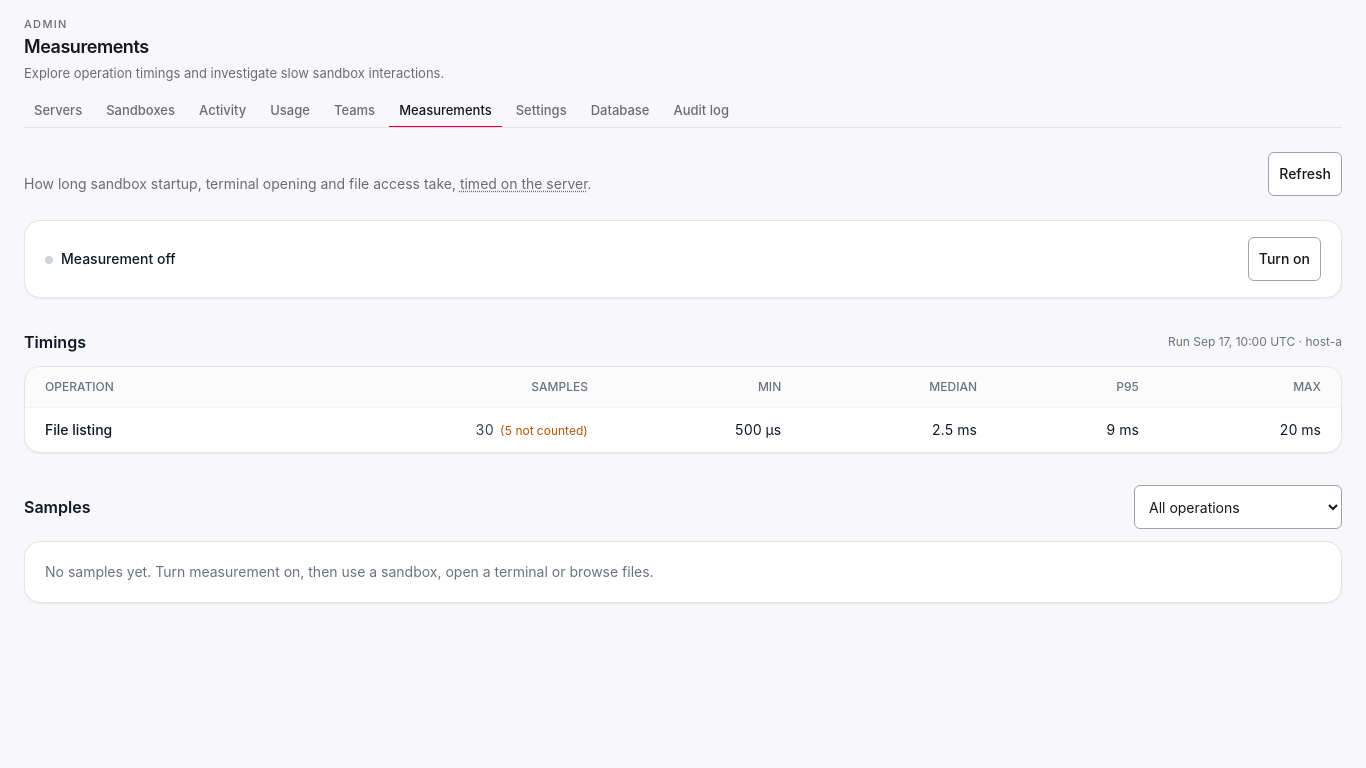
Test case: admin measurements page › says there are no samples rather than showing a zero
This screenshot has width=1366, height=768.
Select "File opening" in the dropdown named "Operation" at (1238,507), box 1134,485 -> 1342,529
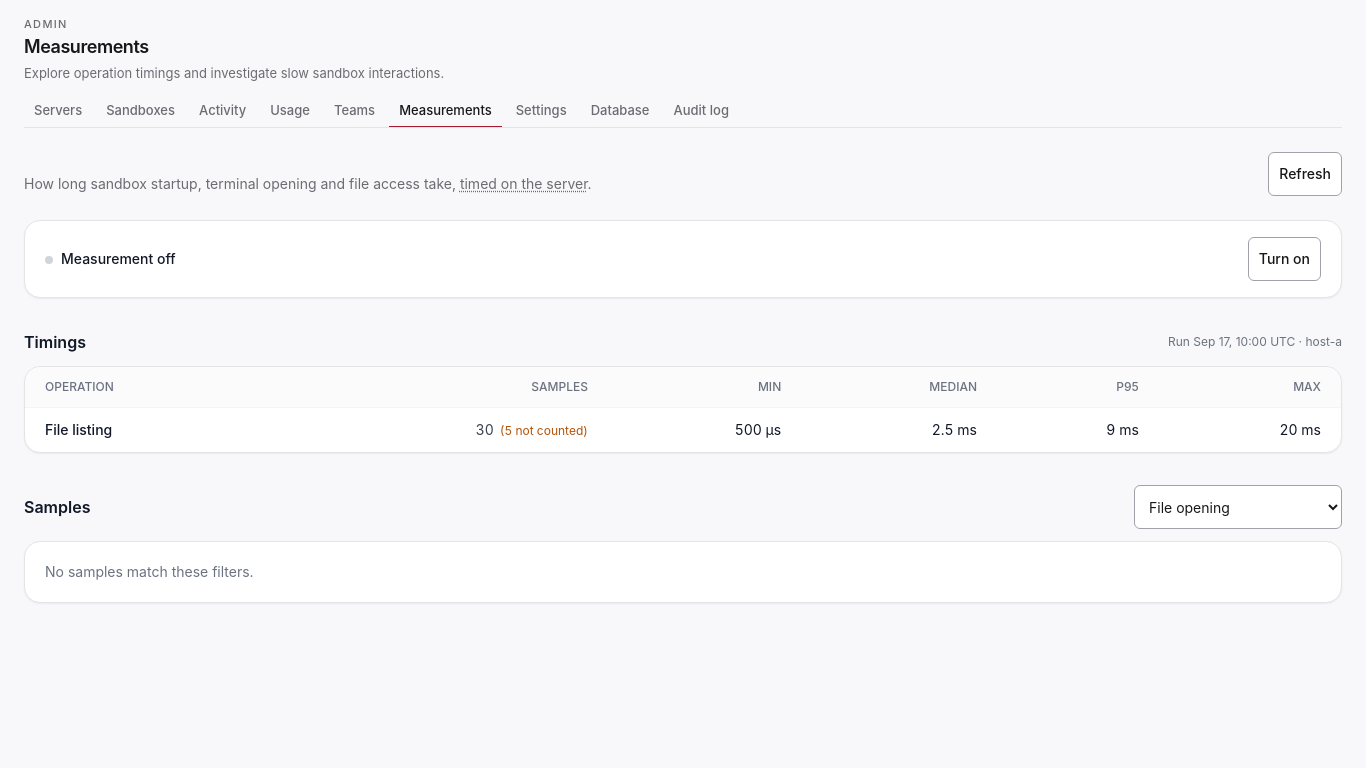
Expected: the text "No samples match these filters." is shown, 45,563 -> 254,580
